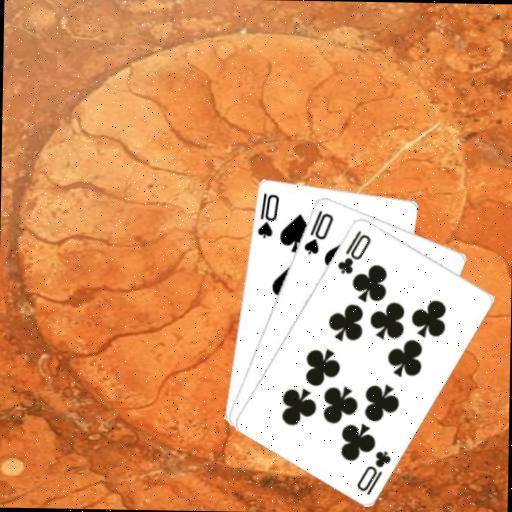10C: (353, 446, 393, 497), (333, 226, 372, 276)
10S: (300, 206, 335, 256), (254, 189, 281, 240)
